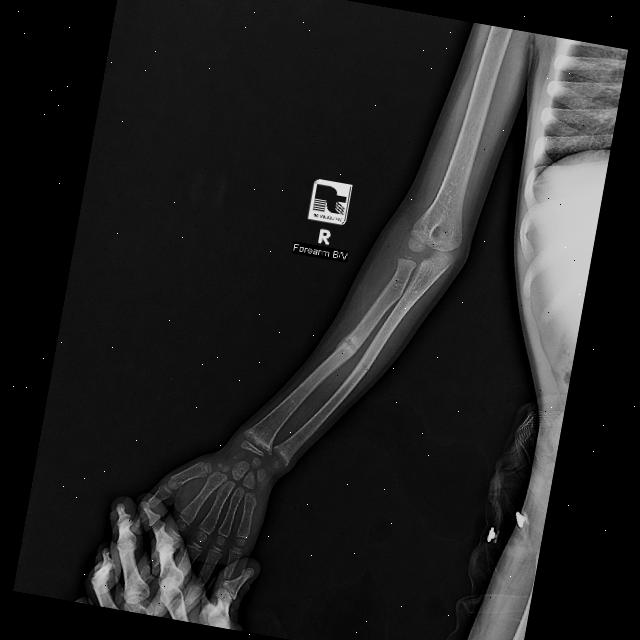fractured: (331, 328, 364, 361), (354, 354, 373, 373)
